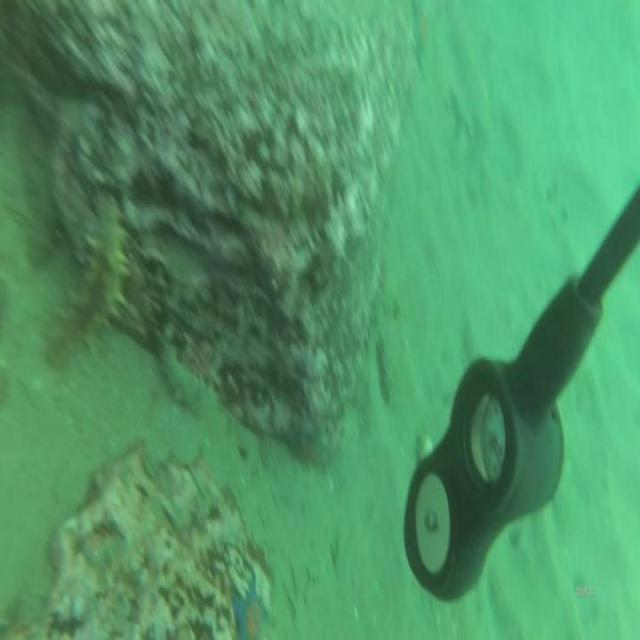holothurian: (44, 186, 134, 373), (156, 332, 222, 428)
starfish: (229, 573, 271, 640), (294, 424, 329, 474), (410, 2, 433, 78)
